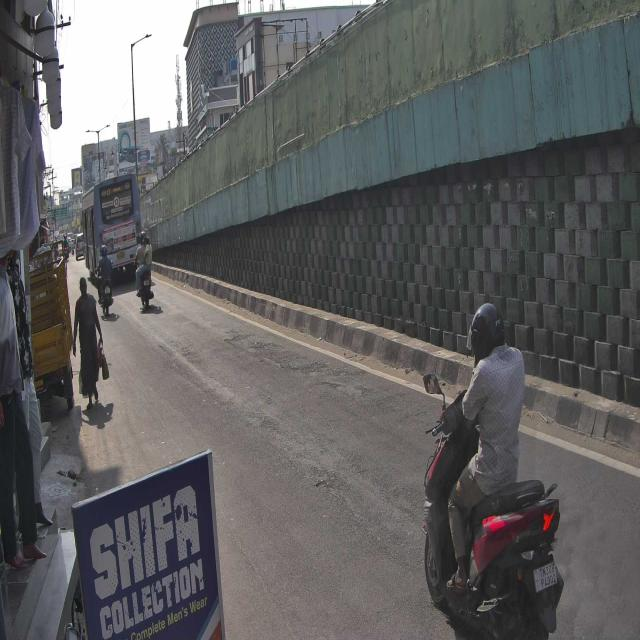single_rider: (419, 290, 565, 640)
